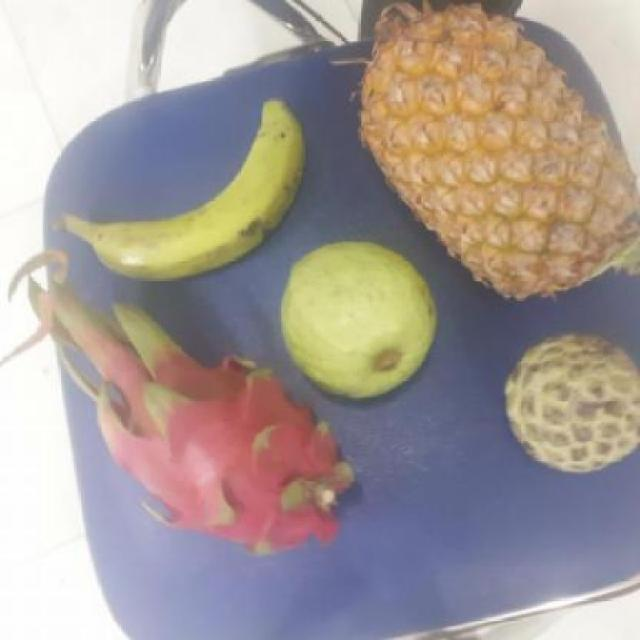dragon fruit: (99, 353, 358, 558)
guava: (272, 245, 440, 404)
pineapple: (356, 6, 639, 286)
sugar apple: (495, 332, 639, 472)
